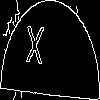X: (25, 24, 44, 73)
